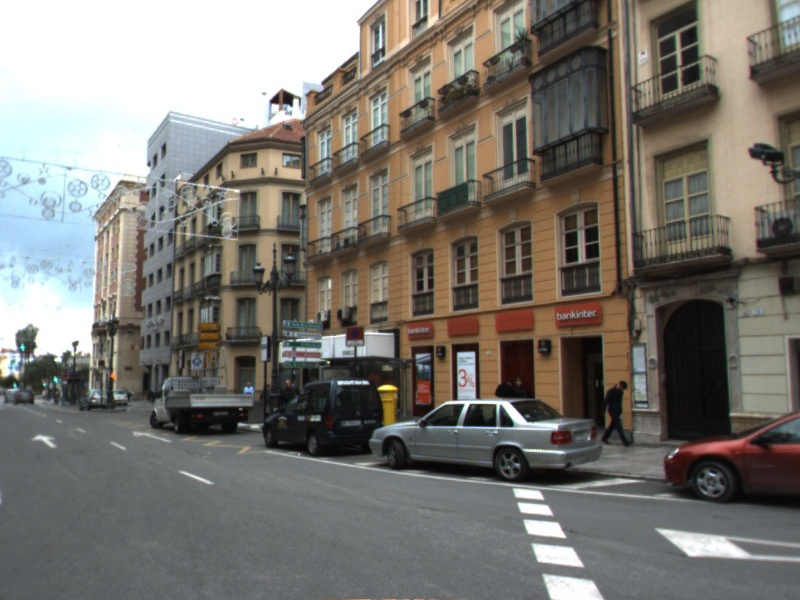STRAIGHT: (130, 428, 176, 445), (29, 432, 60, 450)
